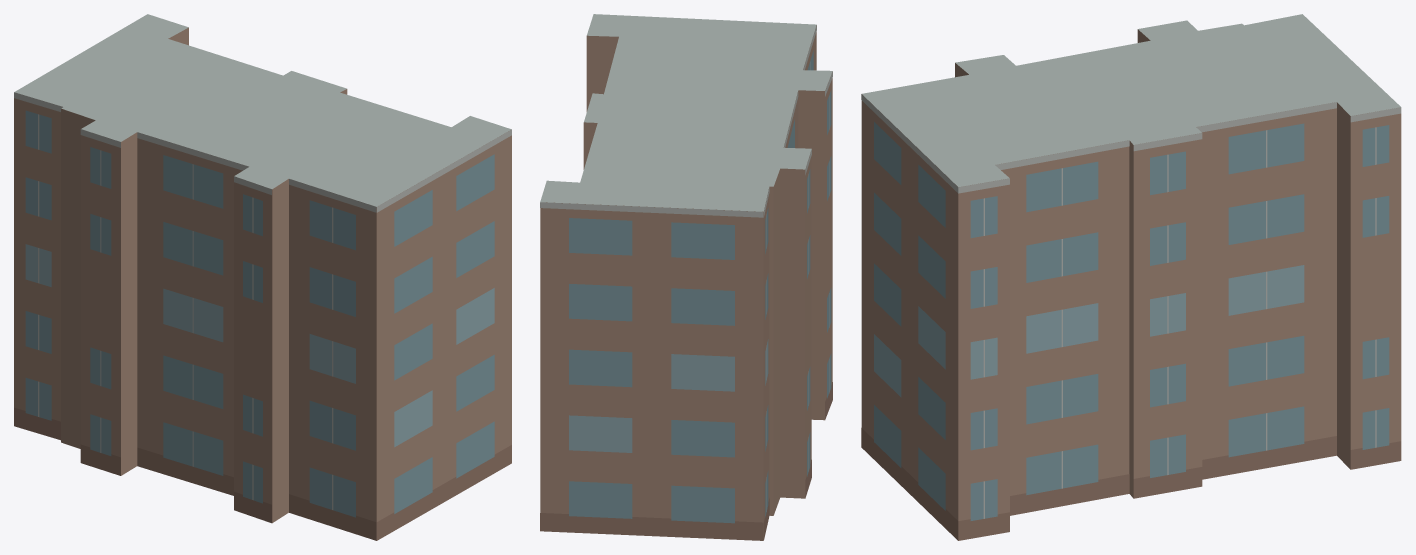
The model's file is survey-upis-33047186.glb.
3 views of the same model, side by side, from view 1: azimuth 30°, elevation 25°; view 2: azimuth 150°, elevation 25°; view 3: azimuth 270°, elevation 25° (orthographic). The views are drawn at different scales.
Parts seen in each view (by area): view 1: survey-upis-33047186.tmp; view 2: survey-upis-33047186.tmp; view 3: survey-upis-33047186.tmp.
Part boxes in pixels (x1,y1,x2,y2): survey-upis-33047186.tmp: (14,14,511,540); survey-upis-33047186.tmp: (540,14,832,540); survey-upis-33047186.tmp: (861,14,1401,540).
Bounding box in the file's own units: 14.31 × 13.62 × 18.85.
